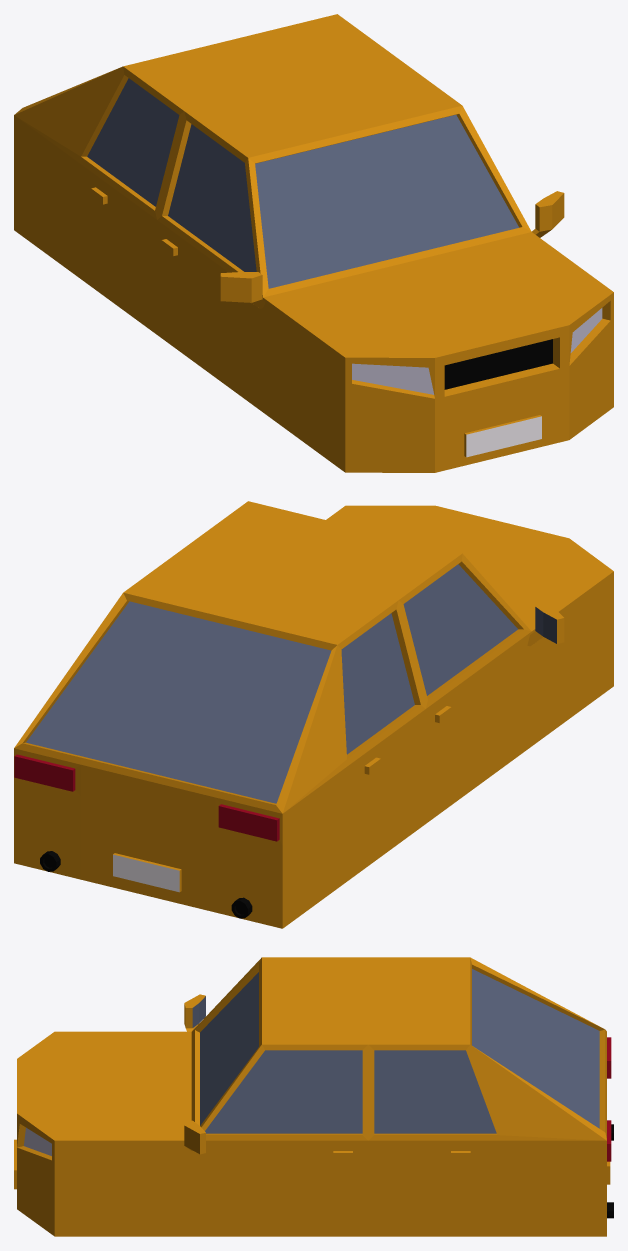
Rendered from Hatchback.glb.
3 renders of one model, top to bottom at view 1: azimuth 30°, elevation 25°; view 2: azimuth 150°, elevation 25°; view 3: azimuth 270°, elevation 25°, orthographic. The views are drawn at different scales.
Parts seen in each view (by area): view 1: Hatchback; view 2: Hatchback; view 3: Hatchback.
Boxes of the visible parts, x1=… form: Hatchback: x1=14, y1=14, x2=613, y2=472; Hatchback: x1=14, y1=501, x2=613, y2=928; Hatchback: x1=14, y1=957, x2=613, y2=1236.
Size of the model in its own units: 281 by 181 by 511.
